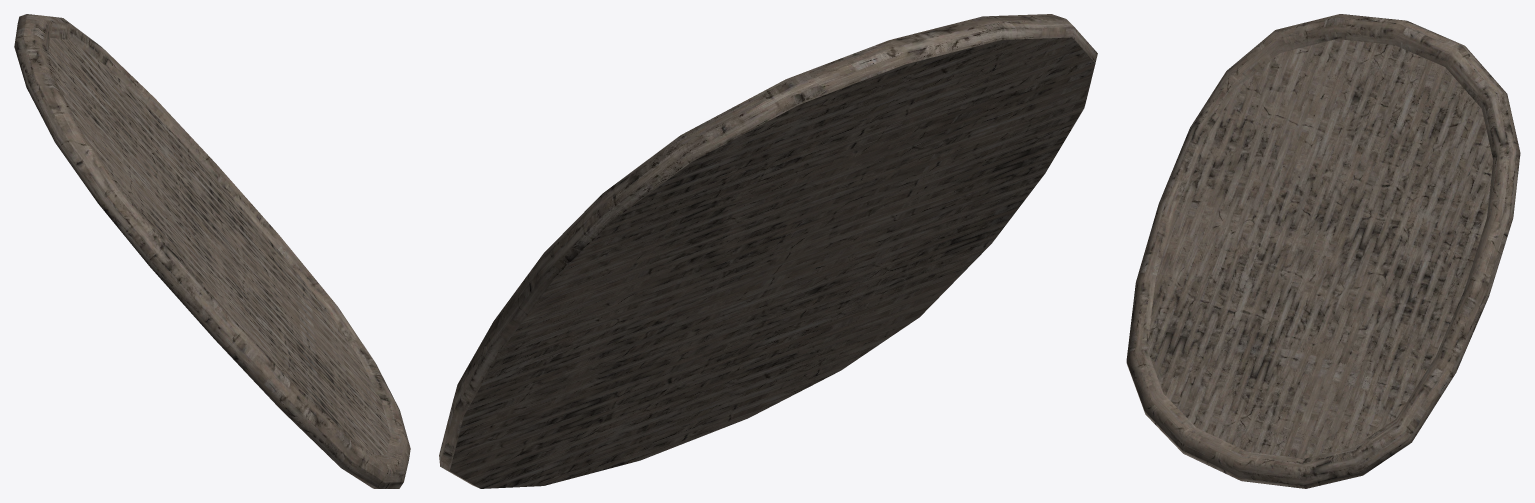
The model's file is Wicker_Basket_01.glb.
3 renders of one model, left to right at view 1: azimuth 30°, elevation 25°; view 2: azimuth 150°, elevation 25°; view 3: azimuth 270°, elevation 25°, orthographic. The views are drawn at different scales.
Parts seen in each view (by area): view 1: Wicker_Basket_01.005; view 2: Wicker_Basket_01.005; view 3: Wicker_Basket_01.005.
Part boxes in pixels (<box>): Wicker_Basket_01.005: <box>14,14,410,488</box>; Wicker_Basket_01.005: <box>439,14,1097,488</box>; Wicker_Basket_01.005: <box>1126,14,1520,488</box>.
Size of the model in its own units: 0.4863 by 0.5381 by 0.552.
Materials: 1 (1 with a texture image).
